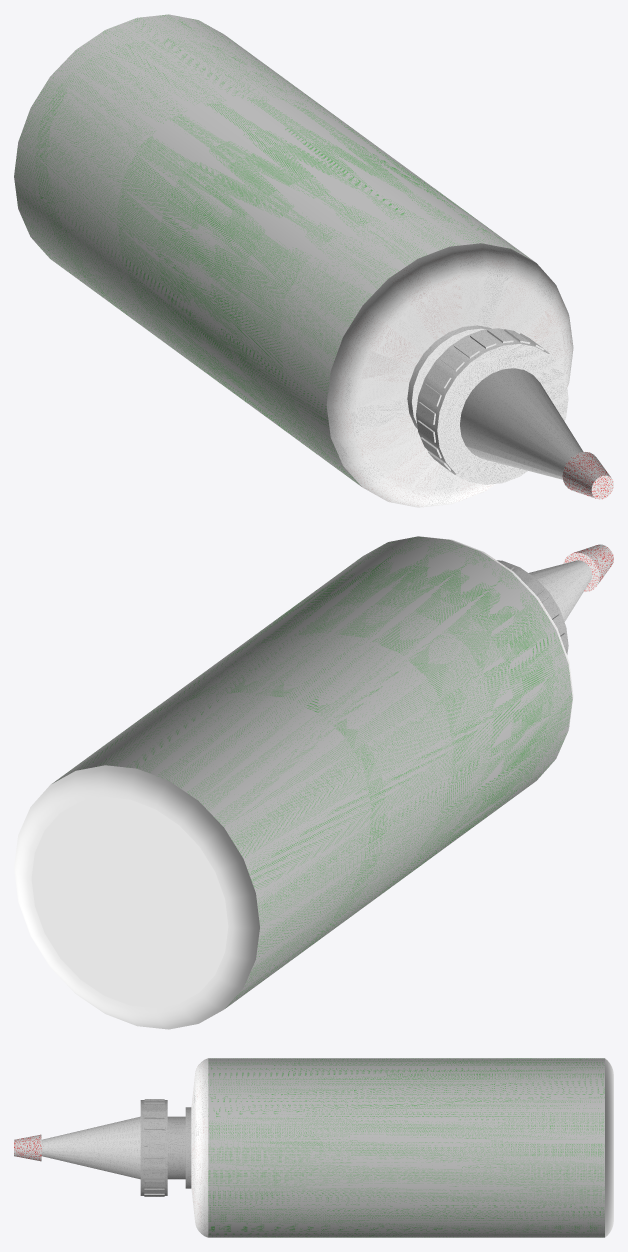
File: model_align.obj
The picture shows the model from 3 angles, top to bottom: view 1: azimuth 30°, elevation 25°; view 2: azimuth 150°, elevation 25°; view 3: azimuth 270°, elevation 25°; orthographic projection. The views are drawn at different scales.
Visible parts, largest first — view 1: mesh1_mesh1-geometry, mesh2_mesh2-geometry; view 2: mesh1_mesh1-geometry, mesh2_mesh2-geometry; view 3: mesh1_mesh1-geometry, mesh2_mesh2-geometry.
Boxes of the visible parts, x1,y1,x2,y2 form: mesh1_mesh1-geometry: (14,14,583,507); mesh2_mesh2-geometry: (562,452,613,499); mesh1_mesh1-geometry: (14,536,592,1029); mesh2_mesh2-geometry: (563,544,613,592); mesh1_mesh1-geometry: (41,1058,613,1237); mesh2_mesh2-geometry: (14,1134,41,1161).
Bounding box in the file's own units: 0.0842 × 0.0842 × 0.2801.
